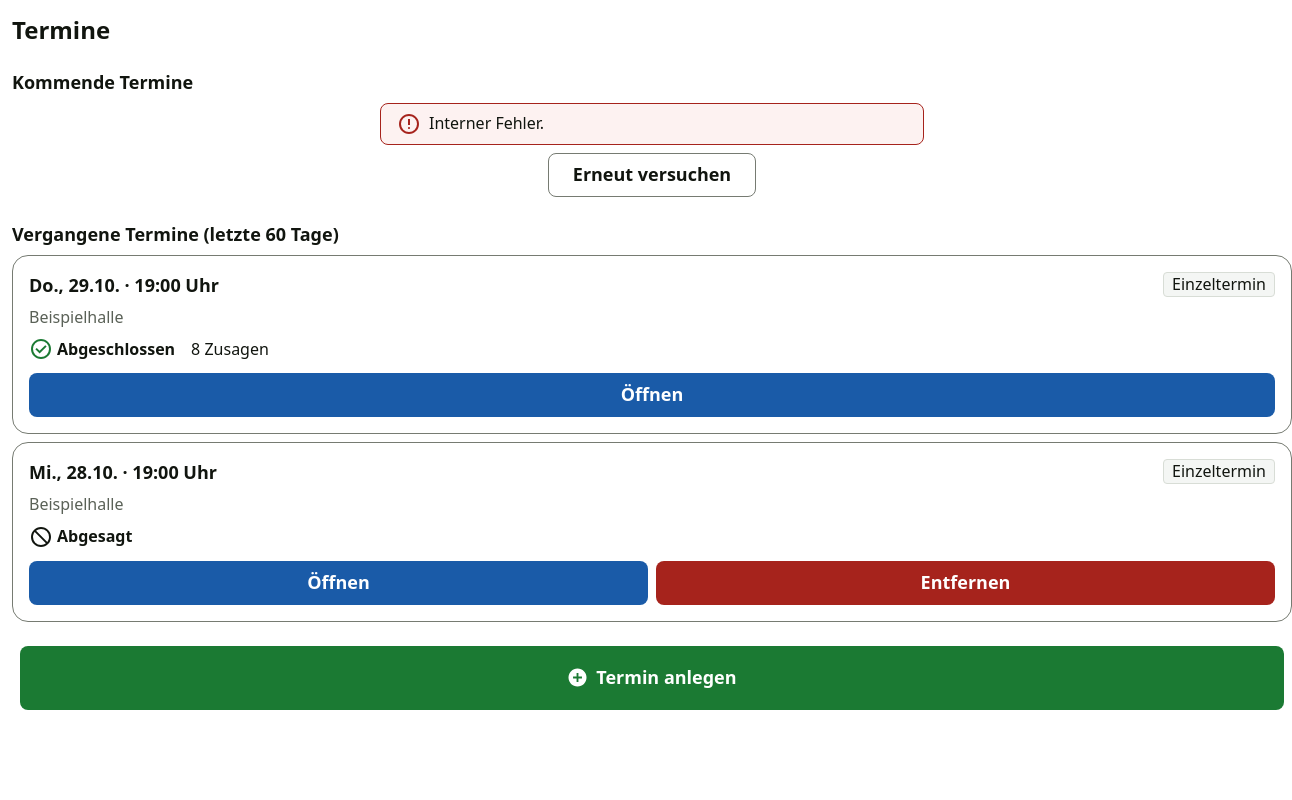
Test: AdminTermine › der Ausfall der kommenden Termine blockiert den Verlauf nicht; „Erneut versuchen“ lädt neu
Check: the list with test id "admin-termine-vergangene-liste" is shown, box [12,255,1291,622]
Click the button with test id "admin-termine-kommende-fehler-erneut": (652, 175) [548,153,756,197]
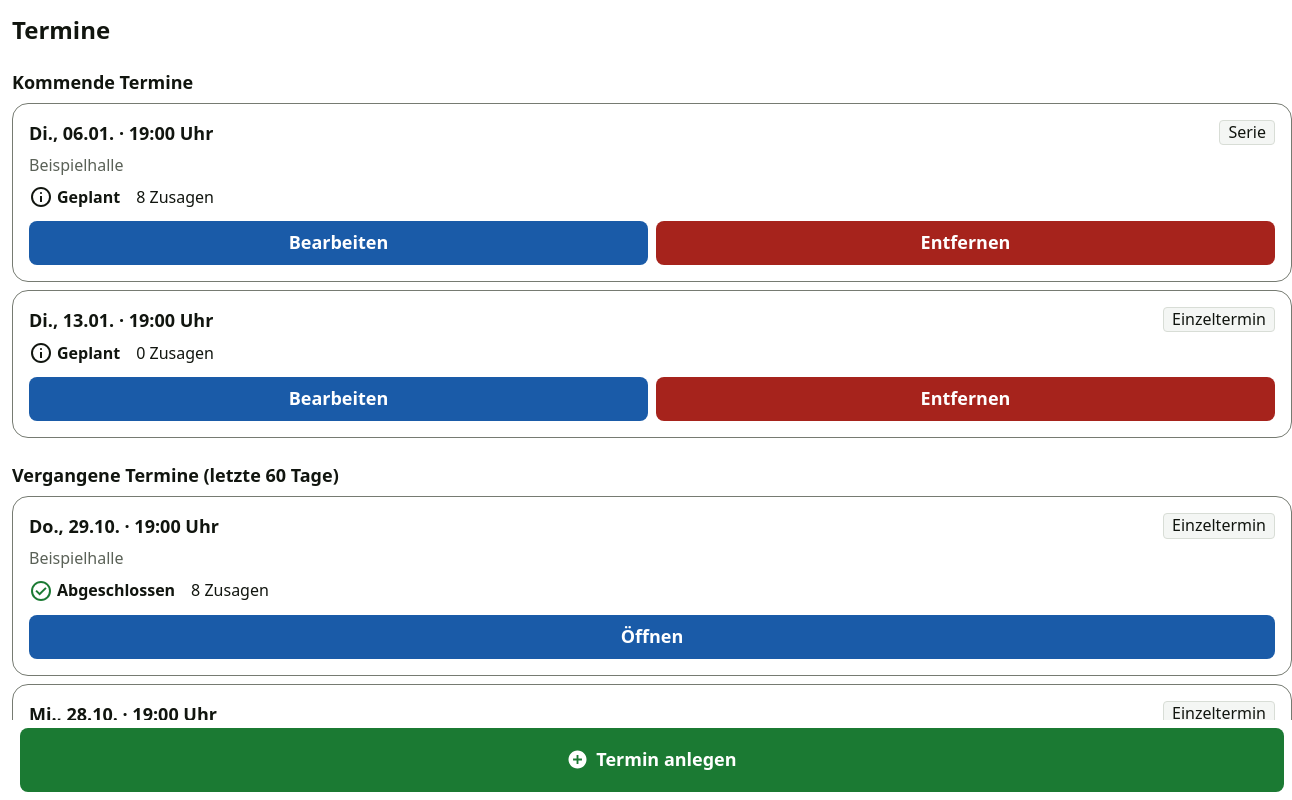
Check: the list with test id "admin-termine-kommende-liste" is shown, box [12,103,1291,438]
